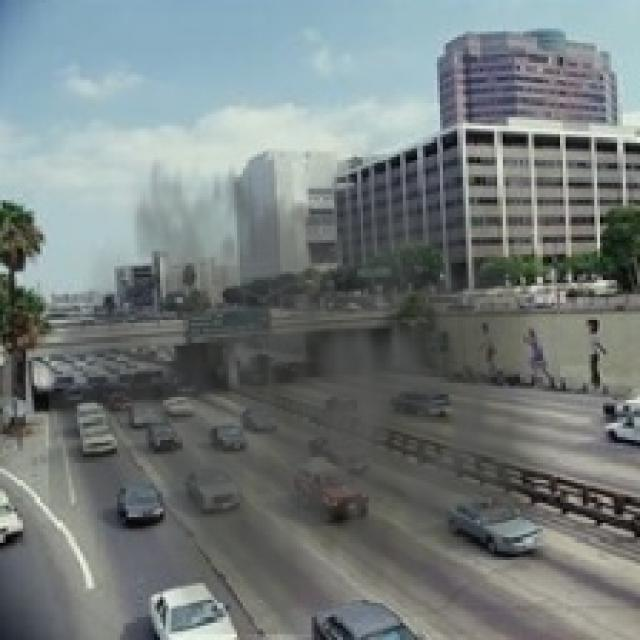Smoke: (49, 108, 572, 634)
